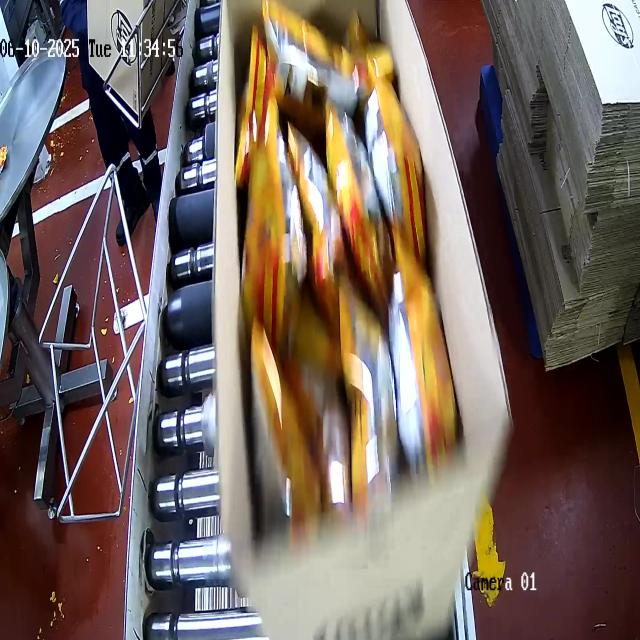FRENCH_CHEESE: (228, 39, 460, 497)
